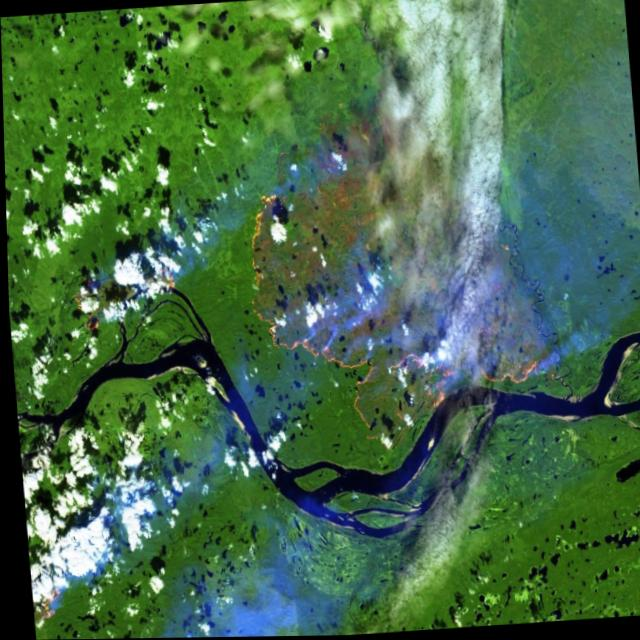fire: (232, 168, 544, 454), (67, 256, 192, 343), (27, 577, 61, 627)
